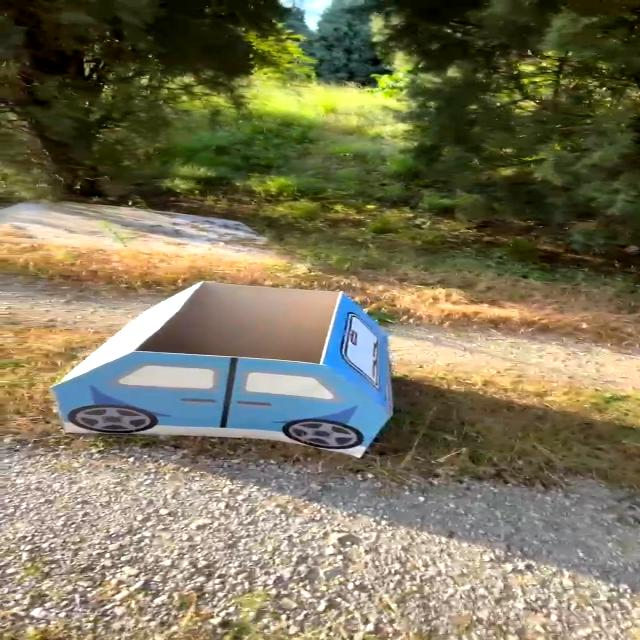blue_car: (27, 272, 473, 501)
